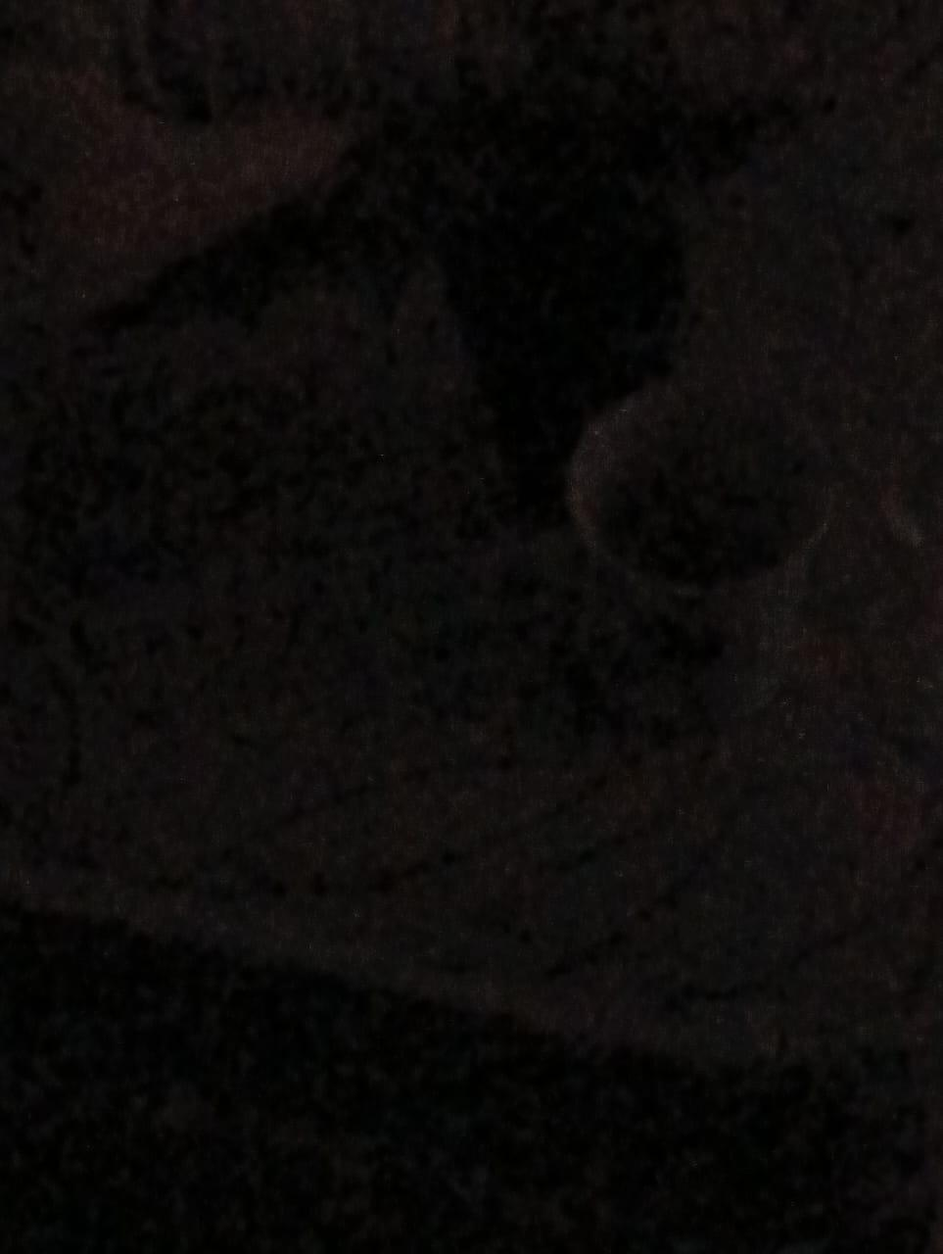cup: (565, 378, 811, 730)
